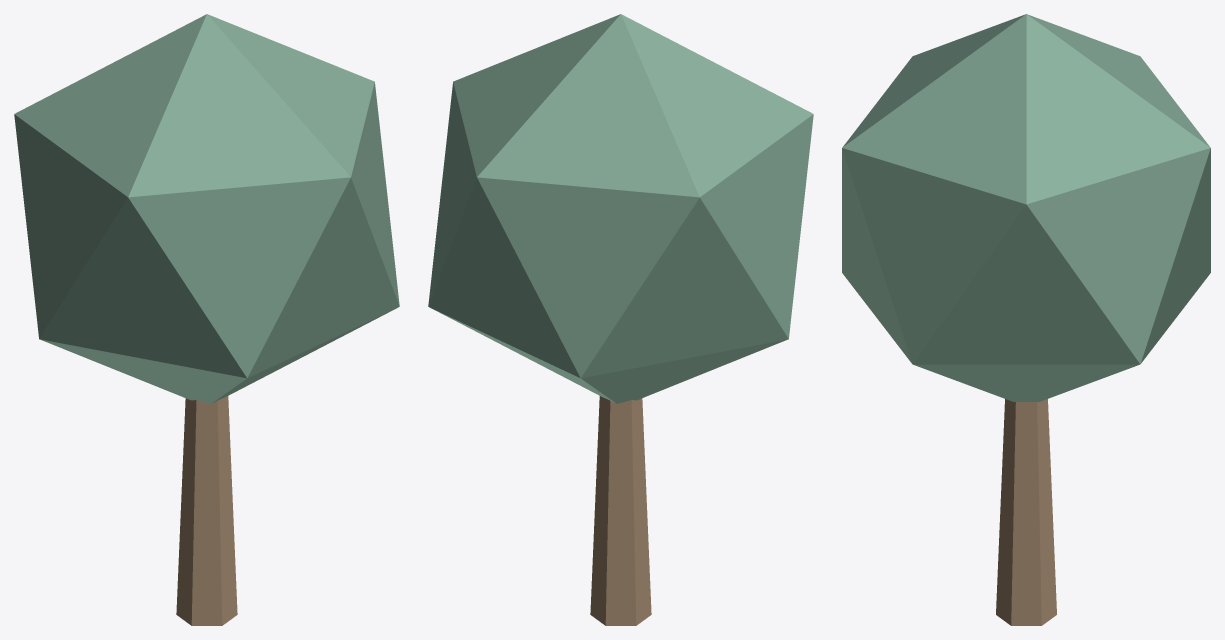
Rendered from deciduous_tree.glb.
3 views of the same model, side by side, from view 1: azimuth 30°, elevation 25°; view 2: azimuth 150°, elevation 25°; view 3: azimuth 270°, elevation 25° (orthographic).
Parts seen in each view (by area): view 1: deciduous_tree_MAT_leaf, deciduous_tree_MAT_wood; view 2: deciduous_tree_MAT_leaf, deciduous_tree_MAT_wood; view 3: deciduous_tree_MAT_leaf, deciduous_tree_MAT_wood.
Boxes of the visible parts, x1=… form: deciduous_tree_MAT_leaf: x1=14, y1=14, x2=399, y2=403; deciduous_tree_MAT_wood: x1=176, y1=396, x2=237, y2=625; deciduous_tree_MAT_leaf: x1=428, y1=14, x2=813, y2=403; deciduous_tree_MAT_wood: x1=590, y1=396, x2=651, y2=625; deciduous_tree_MAT_leaf: x1=842, y1=14, x2=1210, y2=402; deciduous_tree_MAT_wood: x1=996, y1=399, x2=1056, y2=625.
Size of the model in its own units: 1.52 by 2.6 by 1.45.
